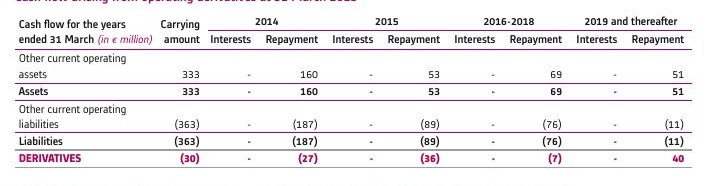table: (0, 0, 714, 186)
